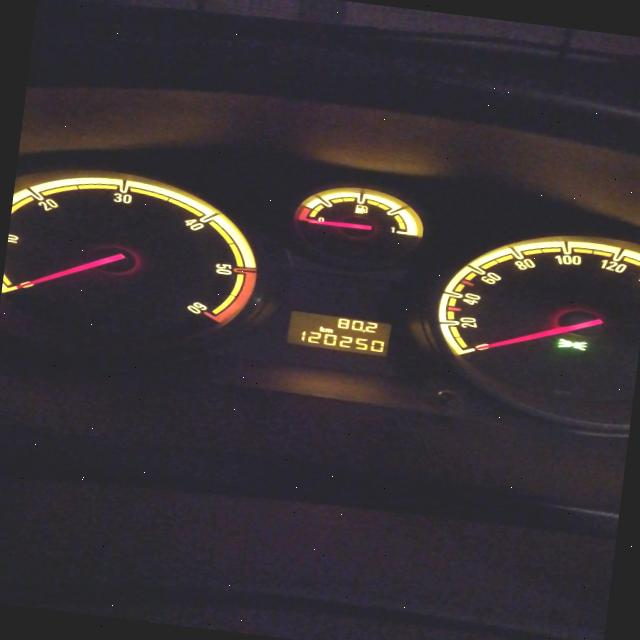odometer: (283, 308, 393, 358)
